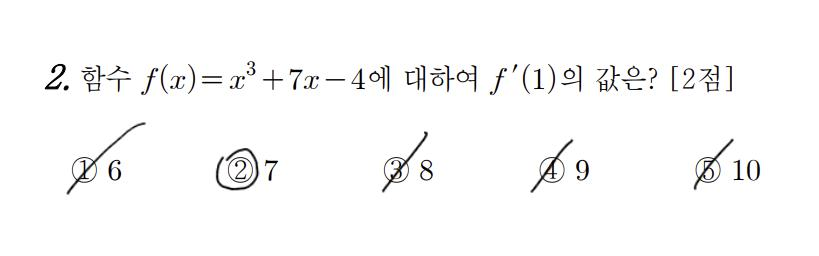1: (214, 147, 262, 191)
paper: (66, 153, 99, 187), (223, 152, 256, 186), (378, 153, 411, 187), (536, 155, 569, 189), (693, 152, 726, 186)
